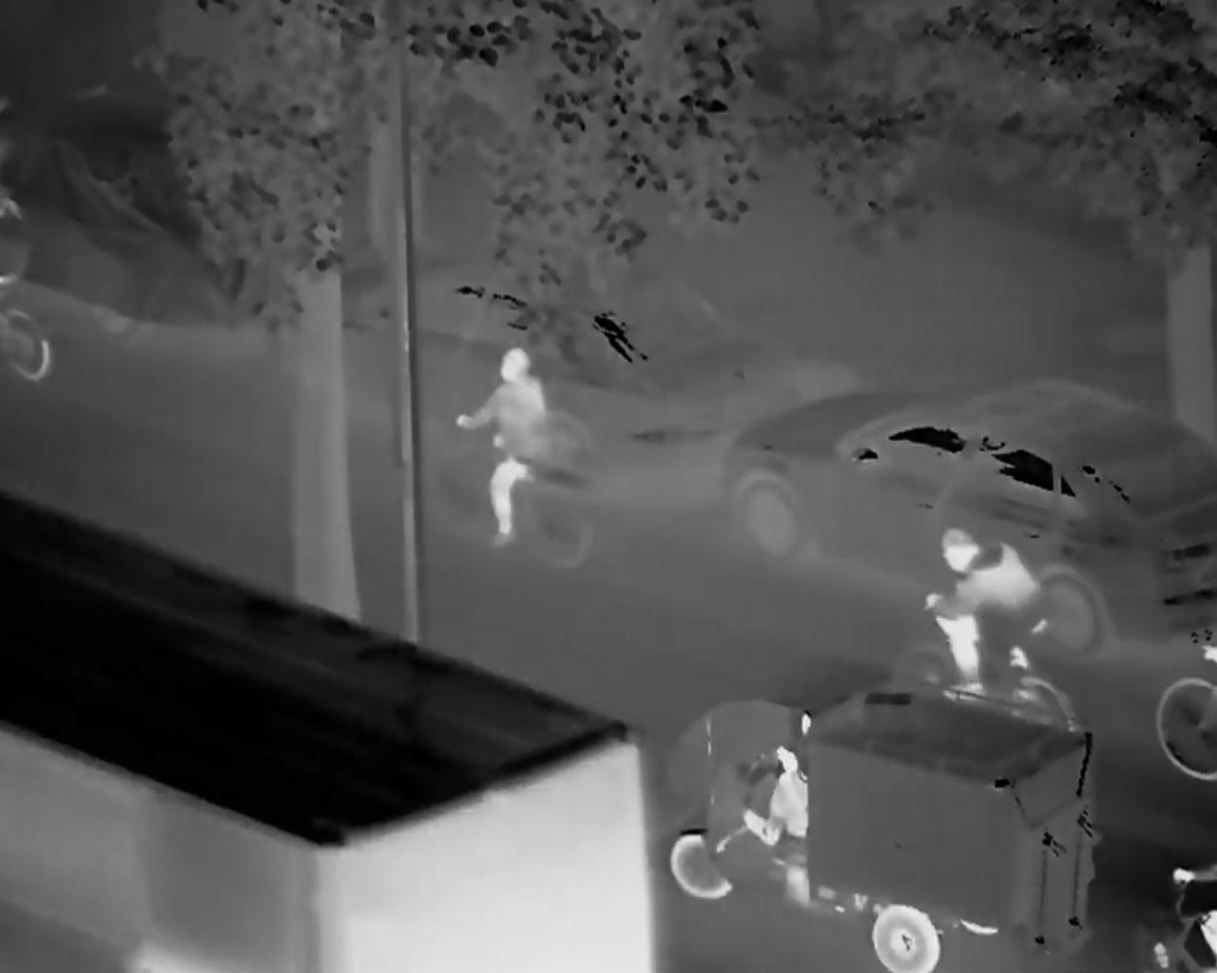person: (447, 347, 573, 565), (922, 531, 1064, 719), (744, 742, 808, 849)
